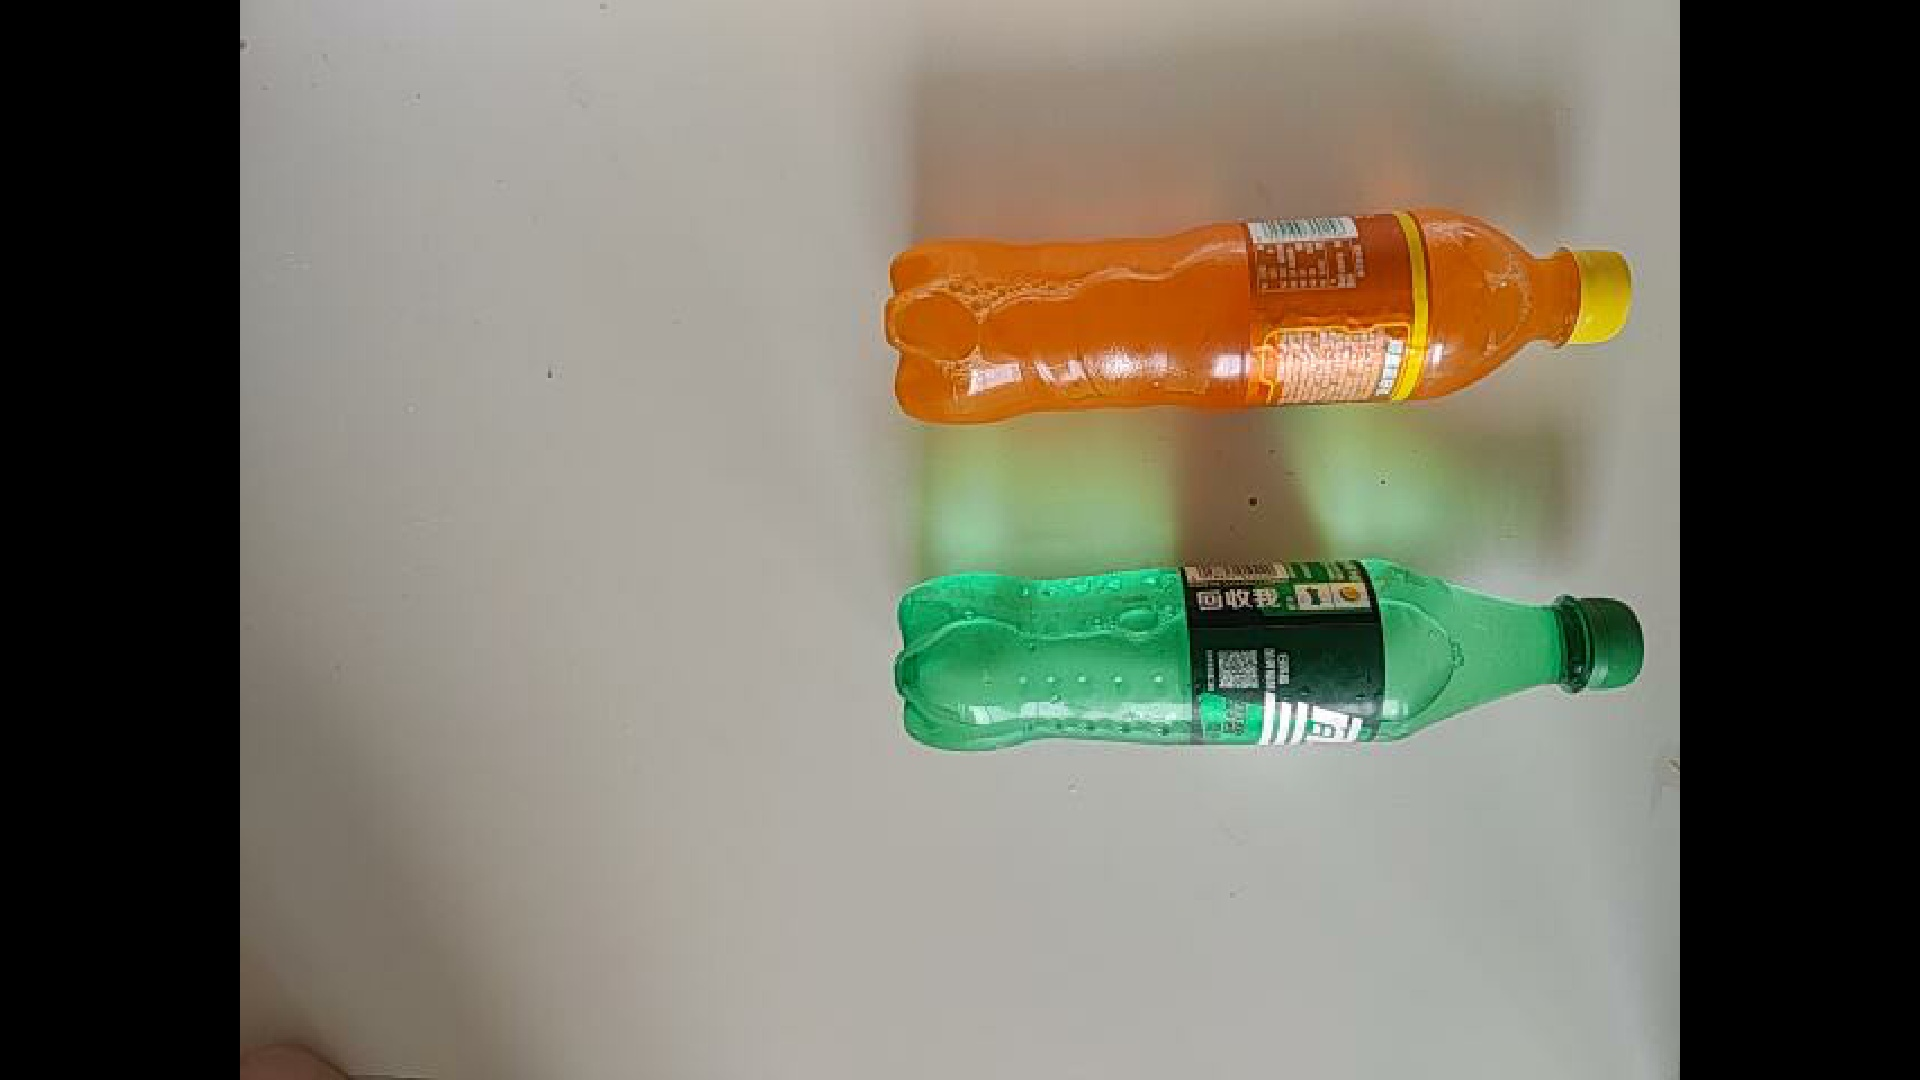fenta: (880, 212, 1646, 433)
sprite: (890, 558, 1654, 754)
